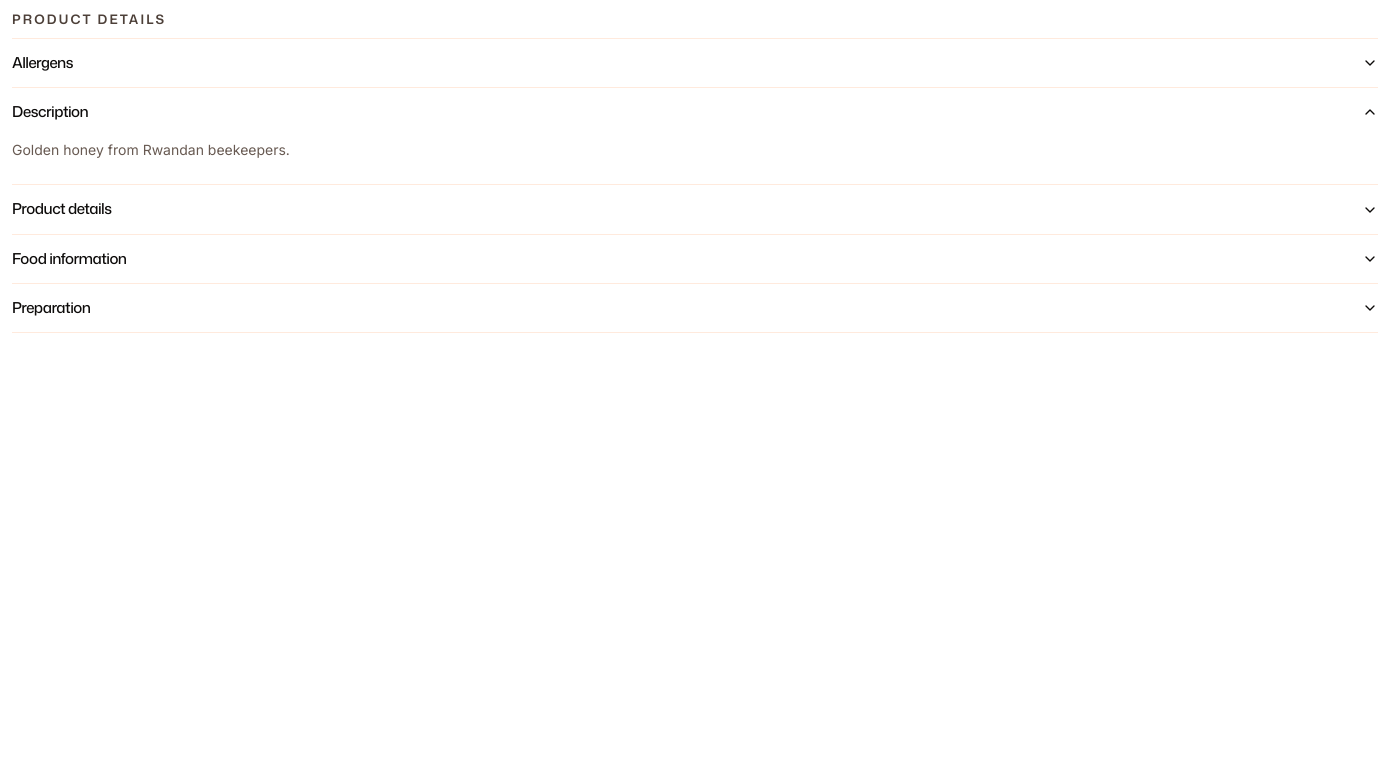
Test: ProductFacts › uses AI values in the existing product fact sections when suggestions arrive
The width and height of the screenshot is (1390, 780).
Click the button "Allergens" at (42, 63), box [12,39,1378,87]
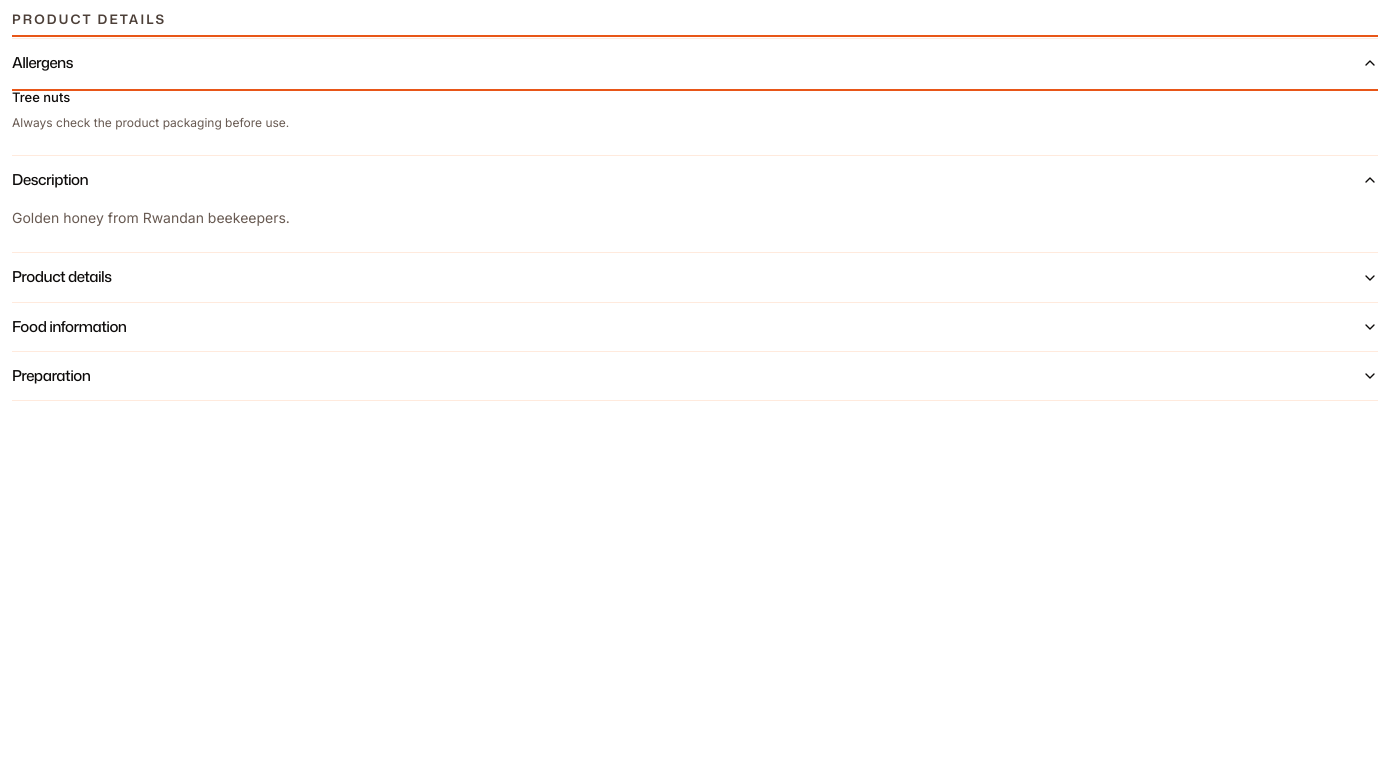
expect the text "Tree nuts" is shown: met, box [12,89,70,105]
Click the button "Food information" at (69, 326), box [12,303,1378,351]
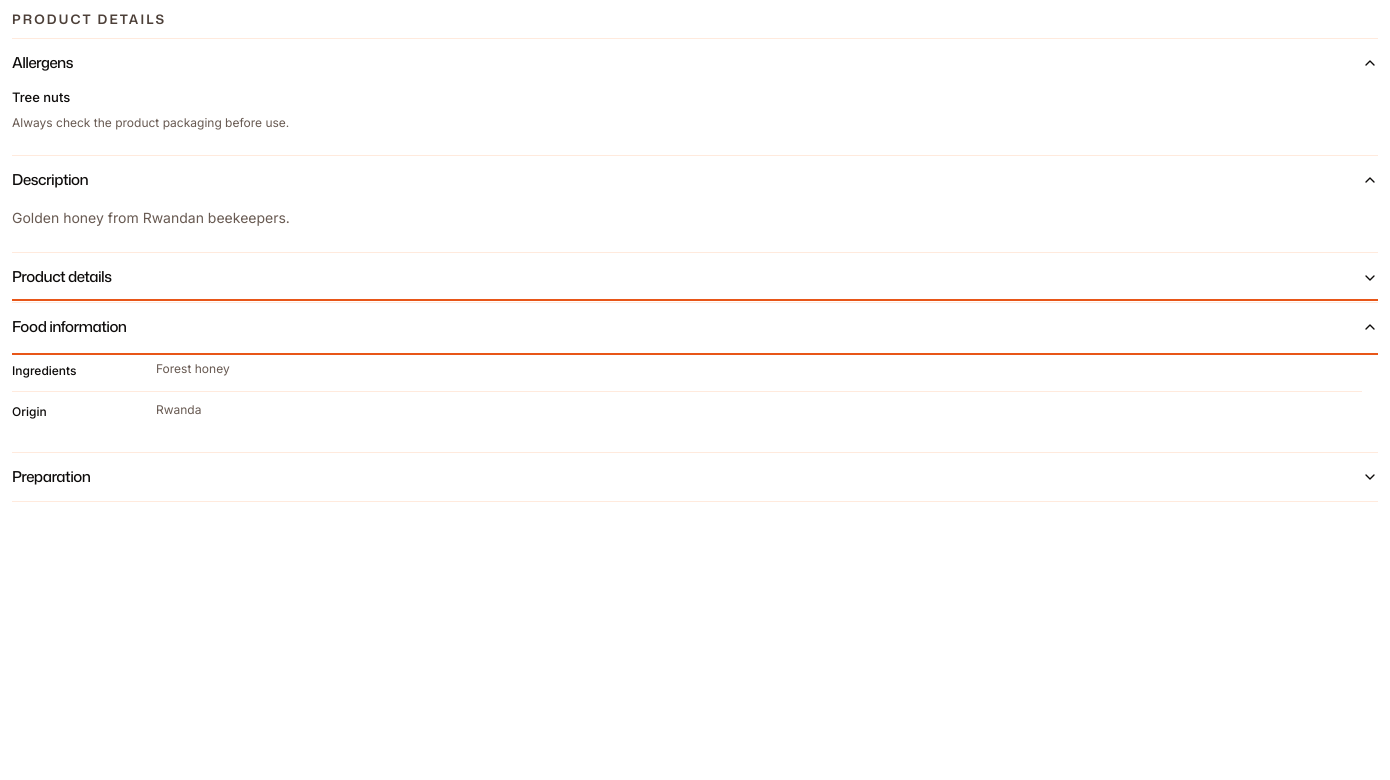
expect the text "Forest honey" is shown: met, box [156,361,230,376]
expect the text "Rwanda" is shown: met, box [156,402,202,417]
Click the button "Preparation" at (51, 476), box [12,453,1378,501]
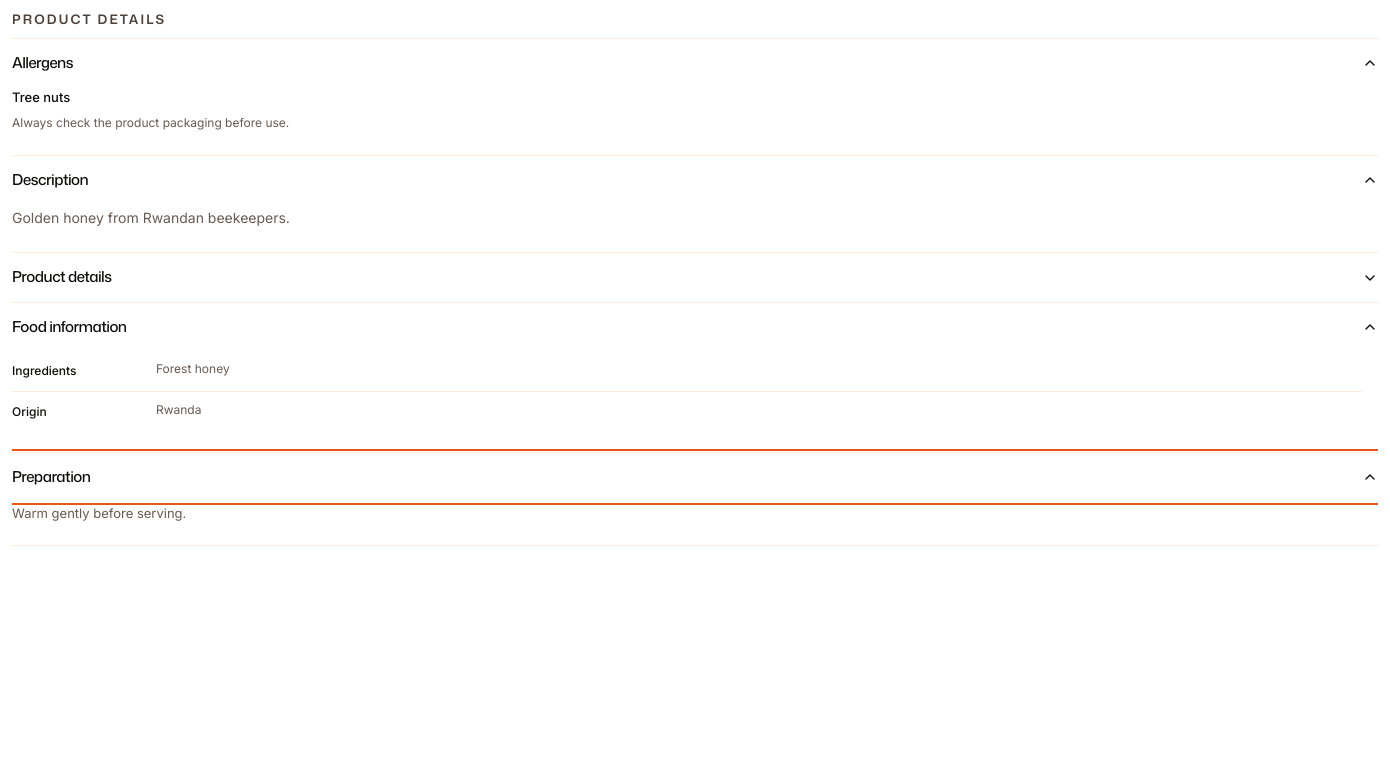
expect the text "Golden honey from Rwandan beekeepers." is shown: met, box [12,209,290,226]
expect the text "Warm gently before serving." is shown: met, box [12,505,186,521]
